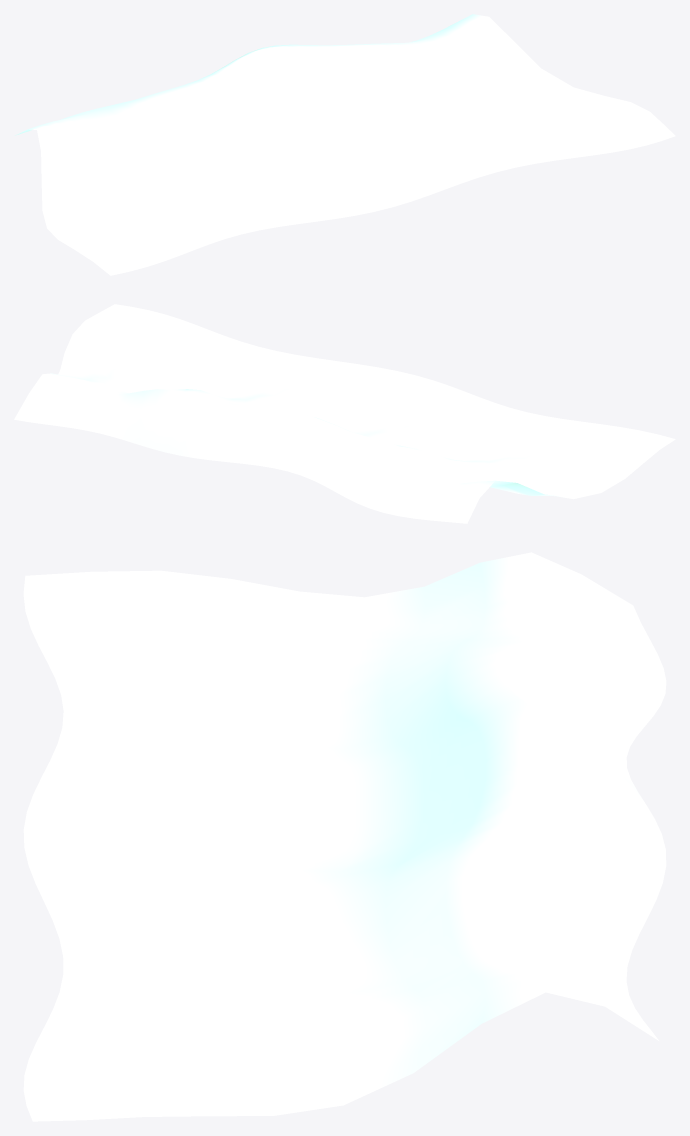
File: SM_WF_ImpactApron.fbx
3 views of the same model, one above another, from view 1: azimuth 30°, elevation 25°; view 2: azimuth 150°, elevation 25°; view 3: azimuth 270°, elevation 25° (orthographic). The views are drawn at different scales.
Visible parts, largest first — view 1: SM_WF_ImpactApron; view 2: SM_WF_ImpactApron; view 3: SM_WF_ImpactApron.
Boxes of the visible parts, left/top/right/bottom form: SM_WF_ImpactApron: left=15, top=14, right=675, bottom=275; SM_WF_ImpactApron: left=14, top=304, right=675, bottom=523; SM_WF_ImpactApron: left=23, top=552, right=666, bottom=1121.
Size of the model in its own units: 194 by 95.98 by 21.7.
